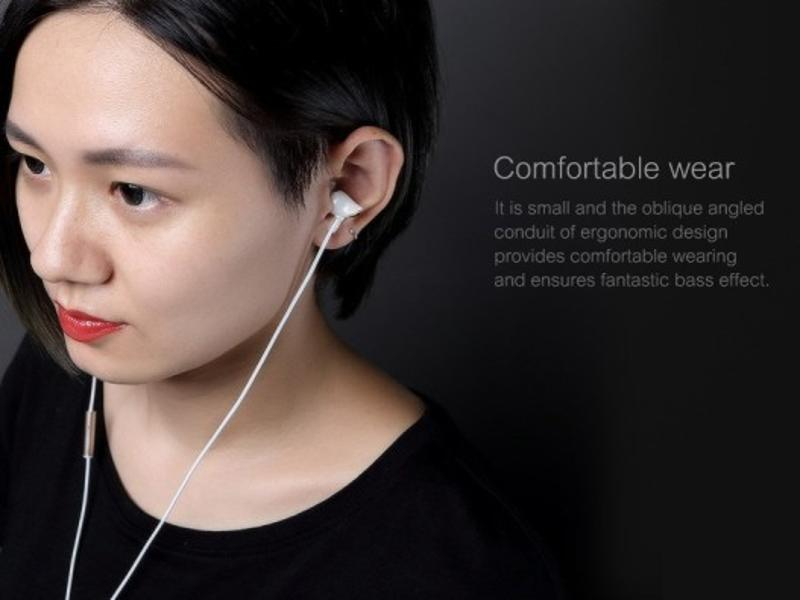headphone: (328, 184, 364, 226)
